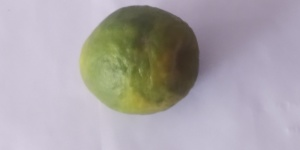BAD: (76, 4, 201, 118)
